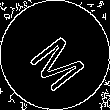M_NE: (21, 21, 89, 89)
